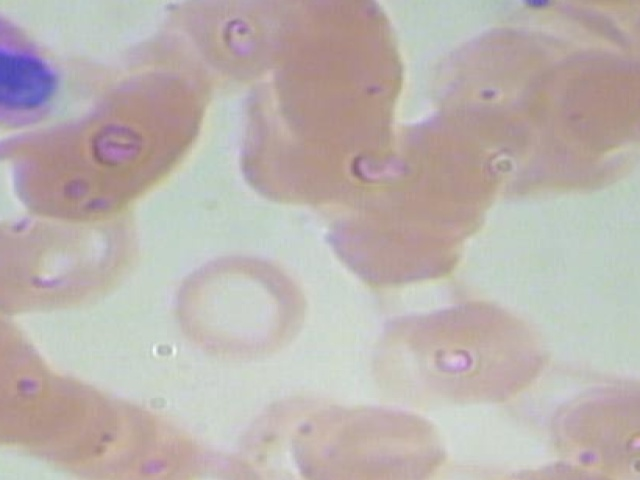Platelets: (509, 0, 559, 16)
RBC: (64, 71, 221, 195), (407, 284, 559, 407), (329, 285, 481, 408), (319, 180, 470, 303), (169, 241, 321, 363), (425, 14, 577, 136), (290, 388, 455, 480), (0, 201, 147, 299), (38, 387, 189, 480), (407, 86, 542, 183), (0, 363, 125, 461), (539, 359, 640, 477), (546, 47, 640, 170), (159, 0, 294, 78), (75, 418, 227, 480), (0, 210, 96, 308), (0, 339, 88, 437), (133, 432, 285, 480), (0, 322, 57, 420), (0, 226, 40, 324)
WBC: (0, 0, 63, 136)
